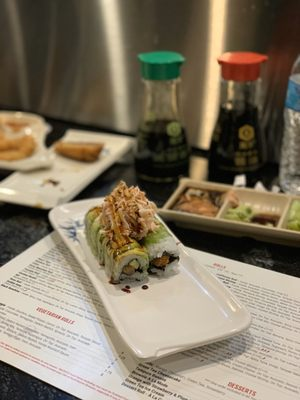soup: (85, 182, 180, 284)
